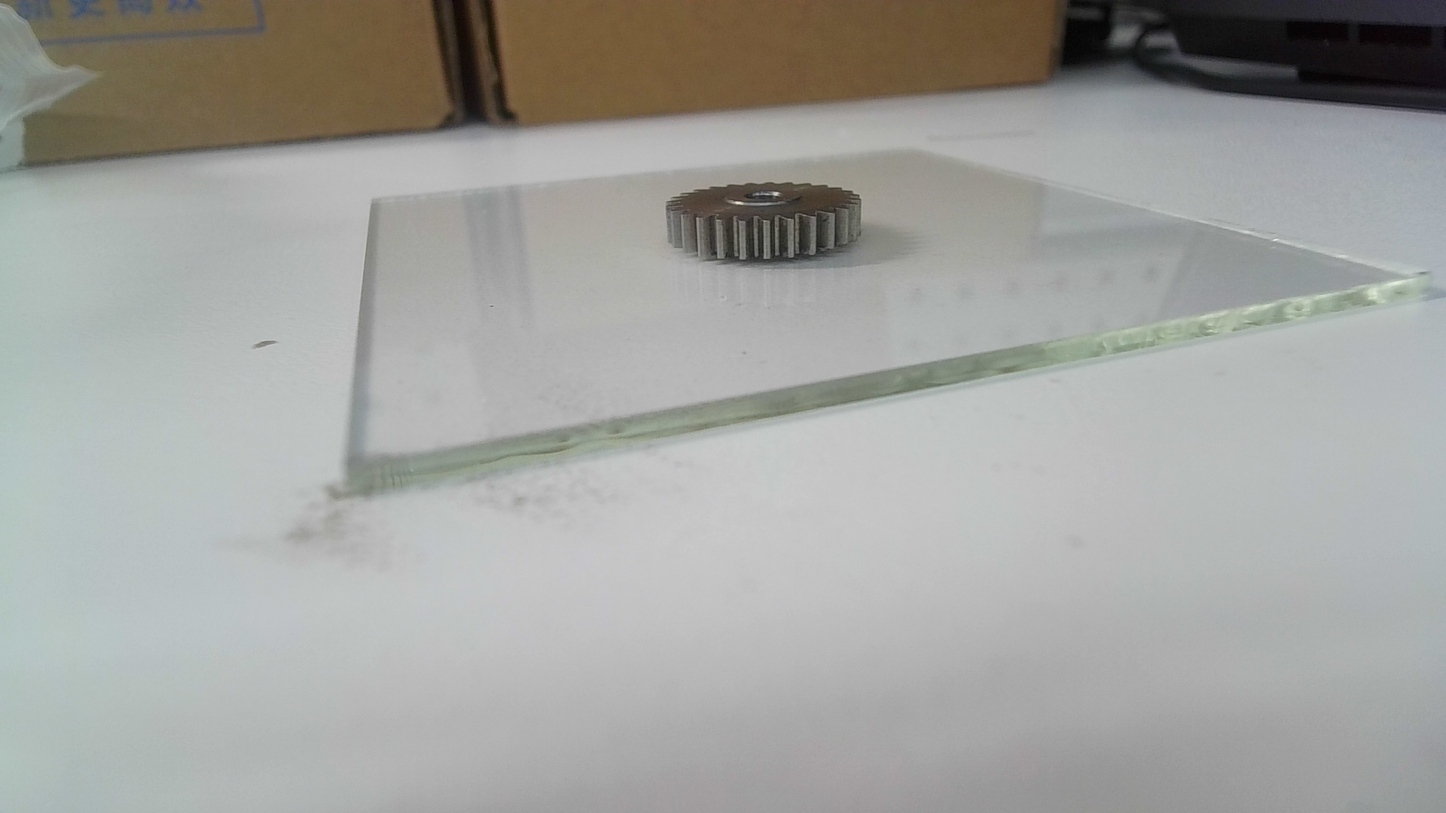gear: (661, 178, 862, 262)
